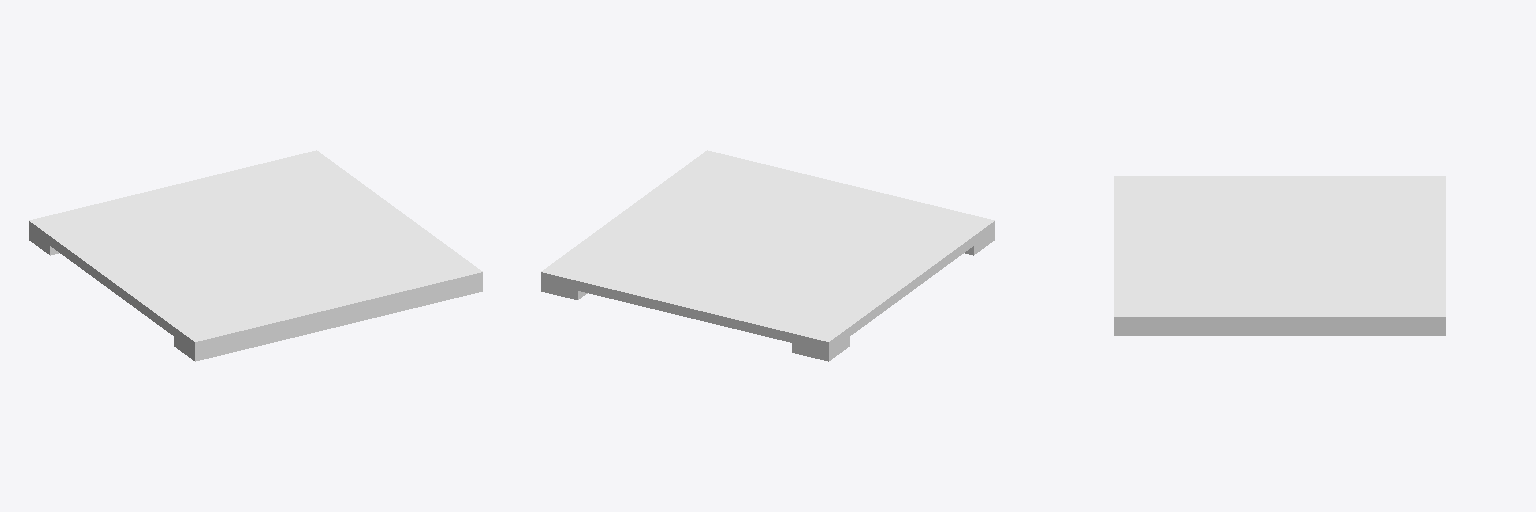
Rendered from Corner.obj.
3 renders of one model, left to right at view 1: azimuth 30°, elevation 25°; view 2: azimuth 150°, elevation 25°; view 3: azimuth 270°, elevation 25°, orthographic.
Parts seen in each view (by area): view 1: Corner; view 2: Corner; view 3: Corner.
Boxes of the visible parts, box(x1,y1,x2,y2) form: Corner: box(29, 150, 482, 361); Corner: box(541, 150, 994, 361); Corner: box(1114, 176, 1445, 335).
Bounding box in the file's own units: 31 × 2 × 31.